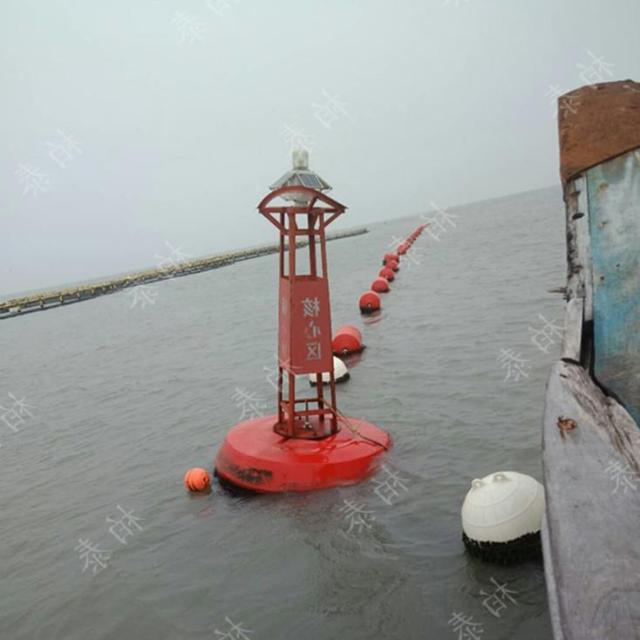buoy: (212, 133, 396, 494)
